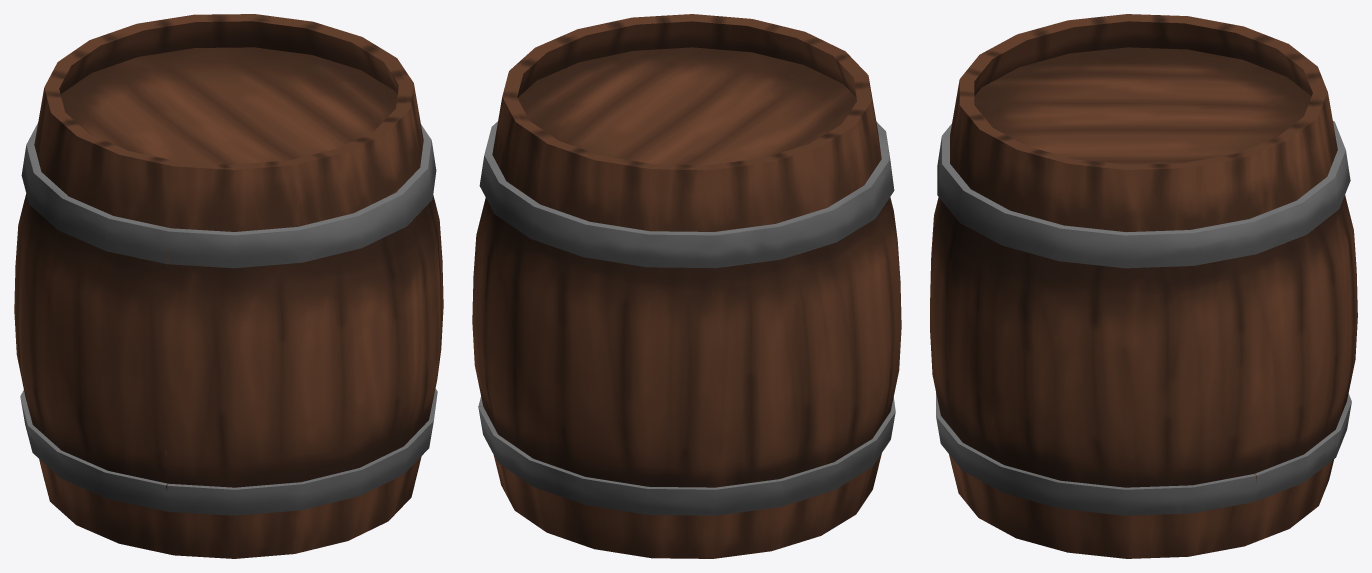
Rendered from barrel_v2.fbx.
3 views of the same model, side by side, from view 1: azimuth 30°, elevation 25°; view 2: azimuth 150°, elevation 25°; view 3: azimuth 270°, elevation 25° (orthographic).
Visible parts, largest first — view 1: Cylinder; view 2: Cylinder; view 3: Cylinder.
Boxes of the visible parts, x1,y1,x2,y2 form: Cylinder: [14, 14, 443, 558]; Cylinder: [472, 14, 901, 558]; Cylinder: [930, 14, 1357, 558].
Size of the model in its own units: 40.98 by 40.9 by 40.84.
